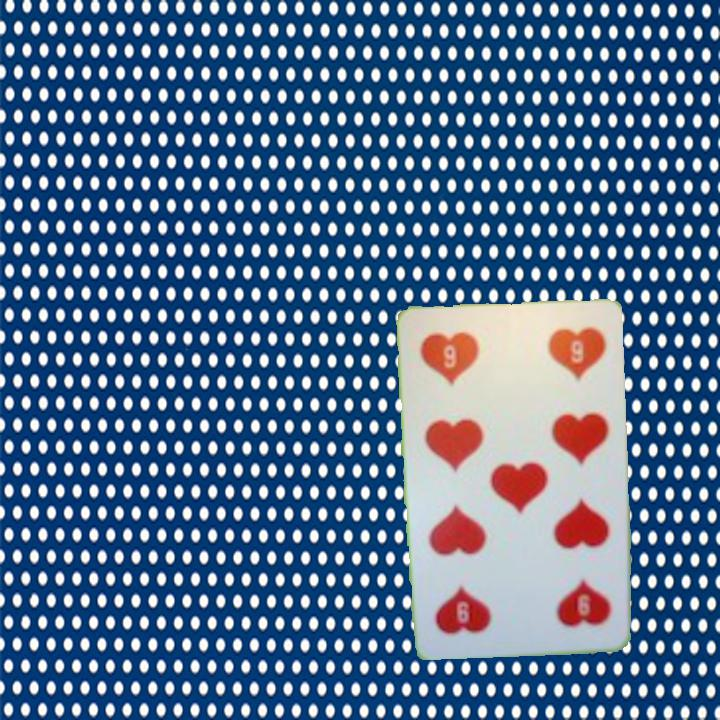h_9.png: (515, 550, 618, 639), (412, 318, 515, 407)
